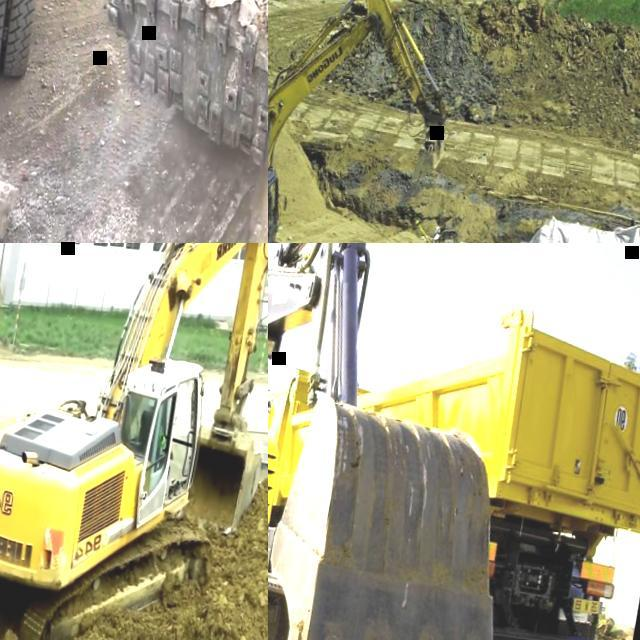vest: (156, 426, 166, 446)
